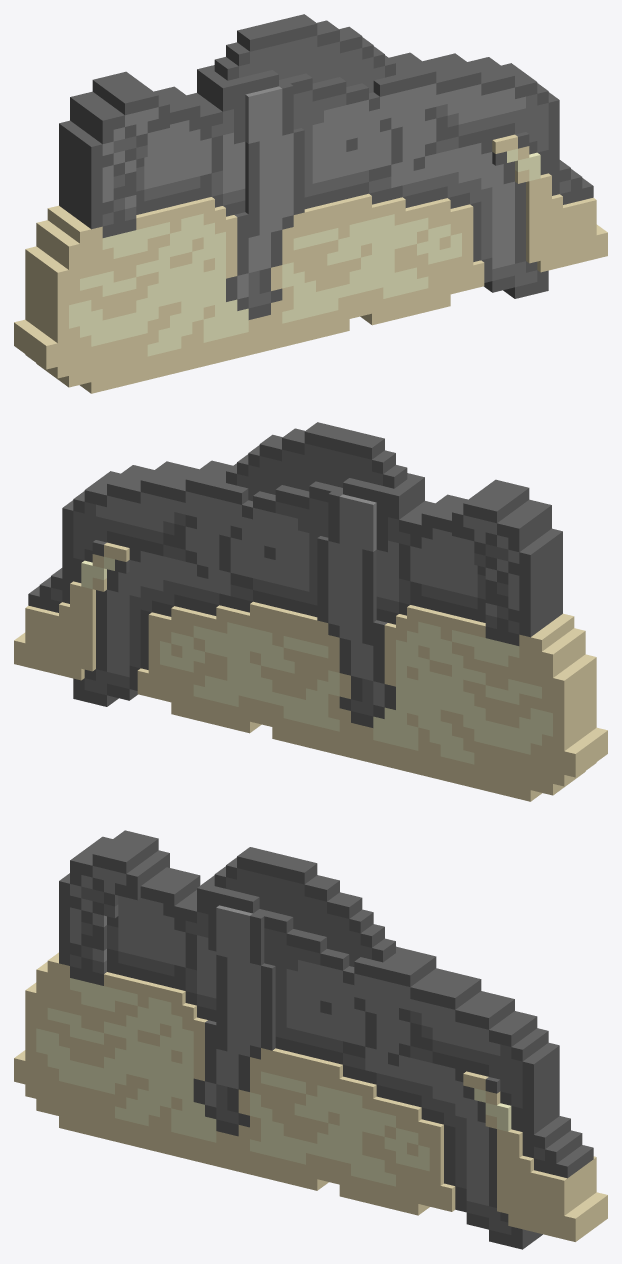
The model's file is ErosSleeping.fbx.
3 renders of one model, top to bottom at view 1: azimuth 30°, elevation 25°; view 2: azimuth 150°, elevation 25°; view 3: azimuth 330°, elevation 25°, orthographic.
Parts seen in each view (by area): view 1: generated; view 2: generated; view 3: generated.
Part boxes in pixels (x1,y1,x2,y2): generated: [14, 14, 607, 393]; generated: [14, 422, 607, 801]; generated: [14, 830, 607, 1249].
Size of the model in its own units: 35 by 18.9 by 3.5.
